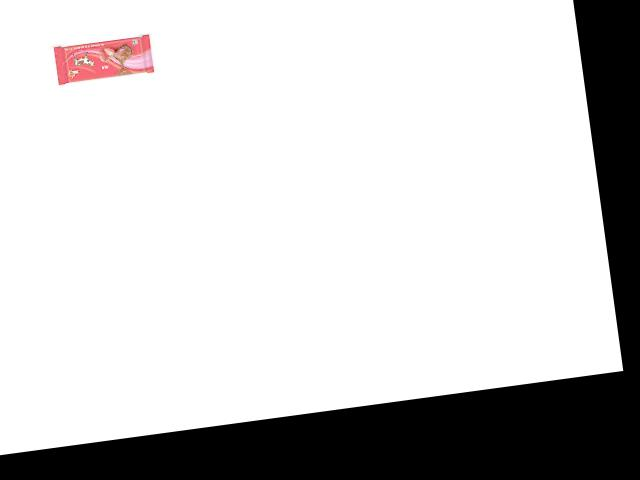chocolate: (45, 27, 154, 85)
